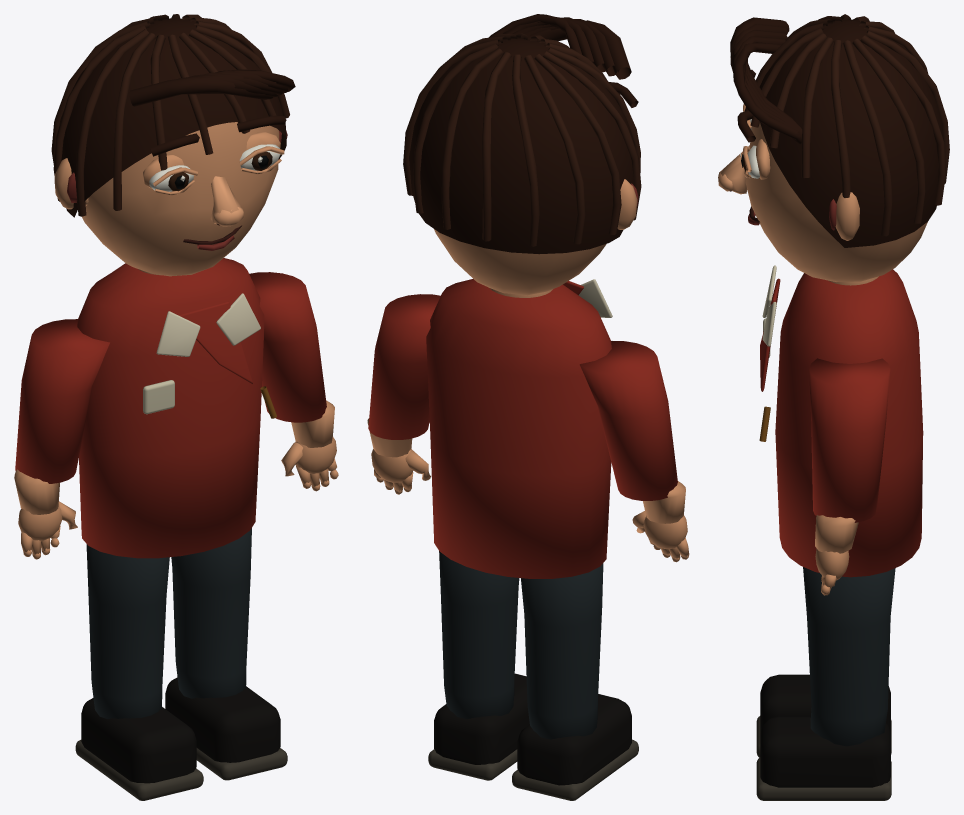
Rendered from receptionist-03.glb.
3 renders of one model, left to right at view 1: azimuth 30°, elevation 25°; view 2: azimuth 150°, elevation 25°; view 3: azimuth 270°, elevation 25°, orthographic.
Visible parts, largest first — view 1: Body, Head, LegL, LegR, ArmL, ArmR; view 2: Head, Body, LegL, LegR, ArmL, ArmR; view 3: Head, Body, LegR, ArmR, LegL.
Part boxes in pixels (<box>): Body: <box>77,258,276,558</box>; Head: <box>51,14,295,276</box>; LegL: <box>75,544,203,800</box>; LegR: <box>165,528,287,780</box>; ArmL: <box>14,319,109,559</box>; ArmR: <box>249,272,338,491</box>; Head: <box>403,14,641,295</box>; Body: <box>426,279,612,578</box>; LegL: <box>512,563,638,800</box>; LegR: <box>428,551,529,780</box>; ArmL: <box>579,341,689,562</box>; ArmR: <box>367,294,440,494</box>; Head: <box>718,14,949,281</box>; Body: <box>759,265,923,577</box>; LegR: <box>756,567,895,800</box>; ArmR: <box>809,358,890,595</box>; LegL: <box>756,674,891,757</box>.
Size of the model in its own units: 0.5949 by 1.32 by 0.3743.
